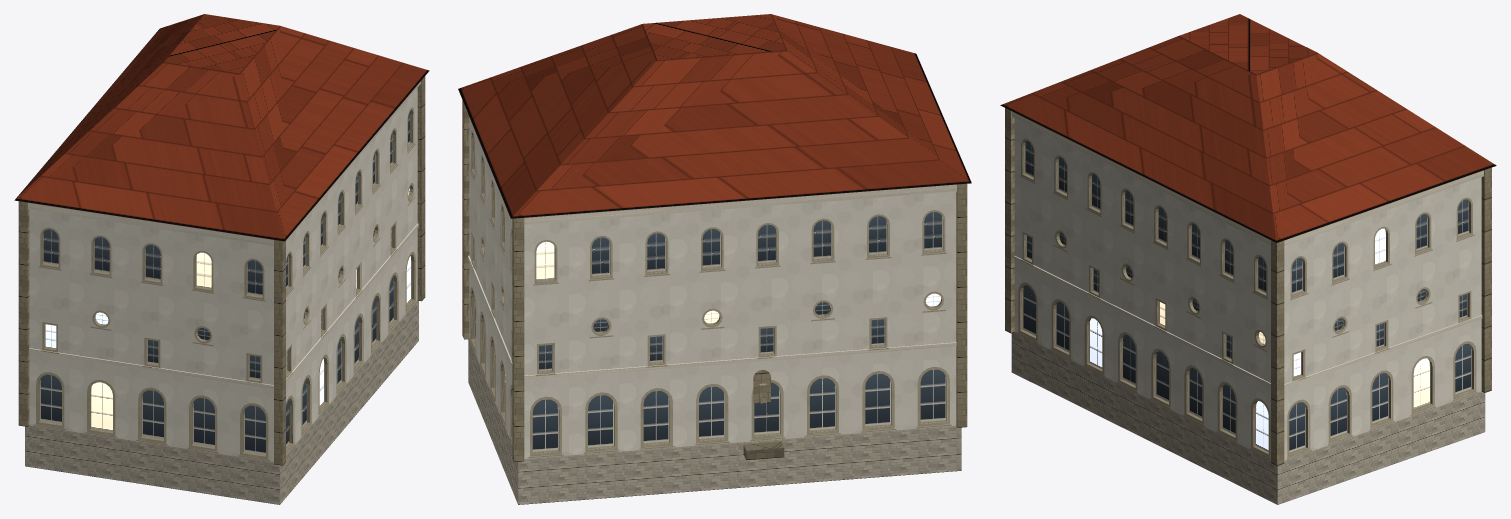
File: k39w3_zwingli.glb
3 views of the same model, side by side, from view 1: azimuth 30°, elevation 25°; view 2: azimuth 150°, elevation 25°; view 3: azimuth 270°, elevation 25° (orthographic). The views are drawn at different scales.
Parts seen in each view (by area): view 1: k39w3_zwingli; view 2: k39w3_zwingli; view 3: k39w3_zwingli.
Boxes of the visible parts, left/top/right/bottom form: k39w3_zwingli: left=14, top=14, right=429, bottom=504; k39w3_zwingli: left=458, top=14, right=971, bottom=504; k39w3_zwingli: left=1000, top=14, right=1496, bottom=504.
Size of the model in its own units: 43.26 by 33.4 by 42.05.
3 materials, 3 textured.
